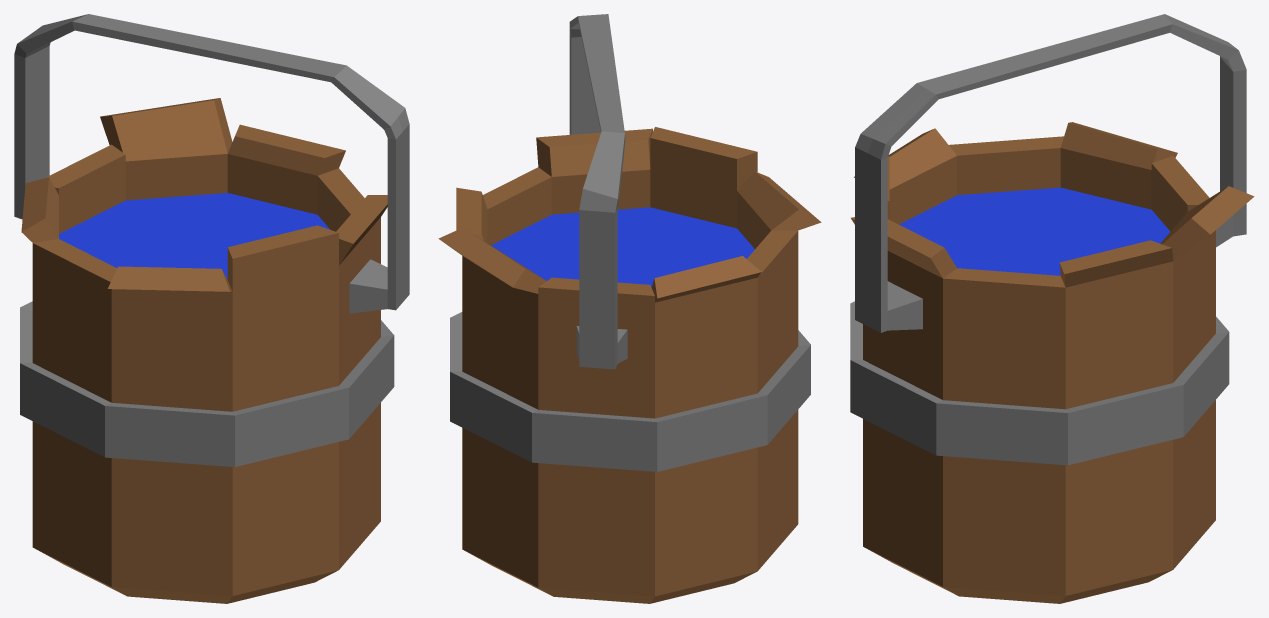
File: FilledBucket.fbx
The picture shows the model from 3 angles, left to right: view 1: azimuth 30°, elevation 25°; view 2: azimuth 150°, elevation 25°; view 3: azimuth 270°, elevation 25°; orthographic projection. The views are drawn at different scales.
Visible parts, largest first — view 1: bucket; view 2: bucket; view 3: bucket.
Part boxes in pixels (box(x1,y1,x2,y2)): bucket: box(14, 14, 409, 603); bucket: box(438, 14, 821, 603); bucket: box(850, 14, 1254, 603).
Bounding box in the file's own units: 93.24 × 133 × 97.96.
